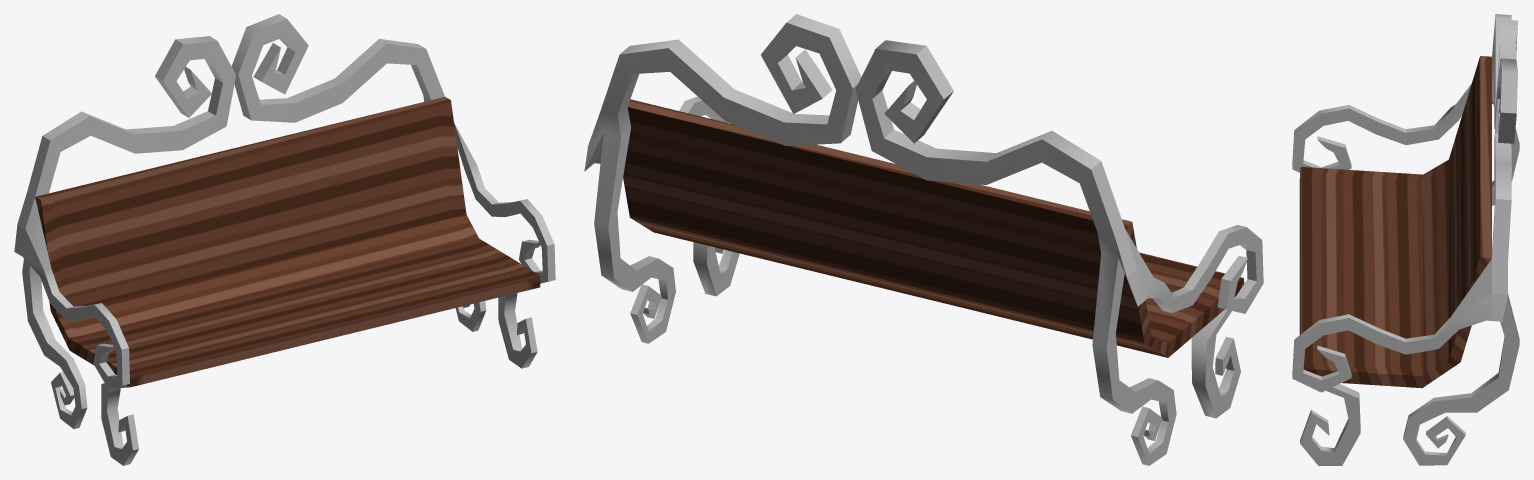
File: Bench.fbx
The picture shows the model from 3 angles, left to right: view 1: azimuth 30°, elevation 25°; view 2: azimuth 150°, elevation 25°; view 3: azimuth 270°, elevation 25°; orthographic projection. The views are drawn at different scales.
Parts seen in each view (by area): view 1: Bench:pCube3; view 2: Bench:pCube3; view 3: Bench:pCube3.
Boxes of the visible parts, x1,y1,x2,y2 form: Bench:pCube3: (14,14,555,465); Bench:pCube3: (584,14,1263,465); Bench:pCube3: (1292,14,1519,465).
Bounding box in the file's own units: 5.97 × 4.12 × 2.65.
Materials: 1 (1 with a texture image).
